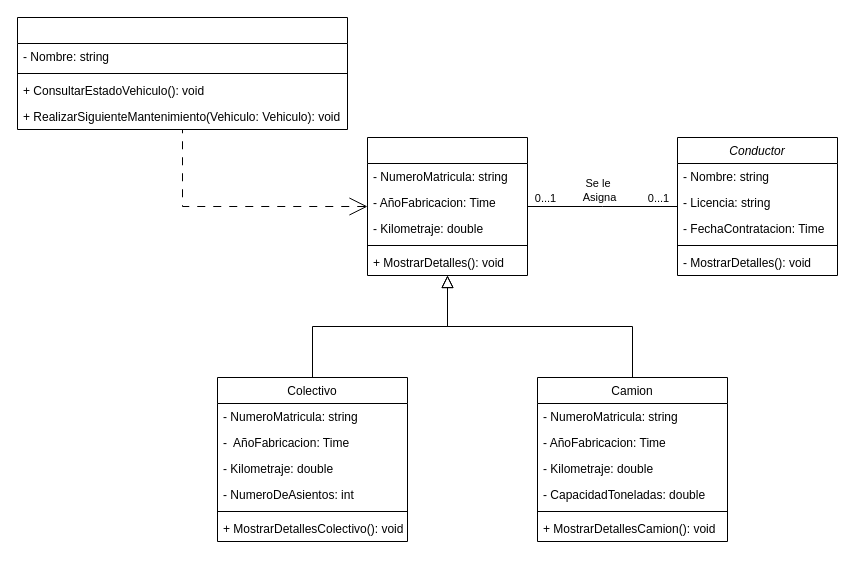
Image size: 855x562. Some labels were removed from this diagram. The box of each missing label's shape, as (x1, y1, x2, y2) in pixels:
Supervisor: (16, 16, 348, 130)
Vehiculo: (366, 136, 528, 276)
